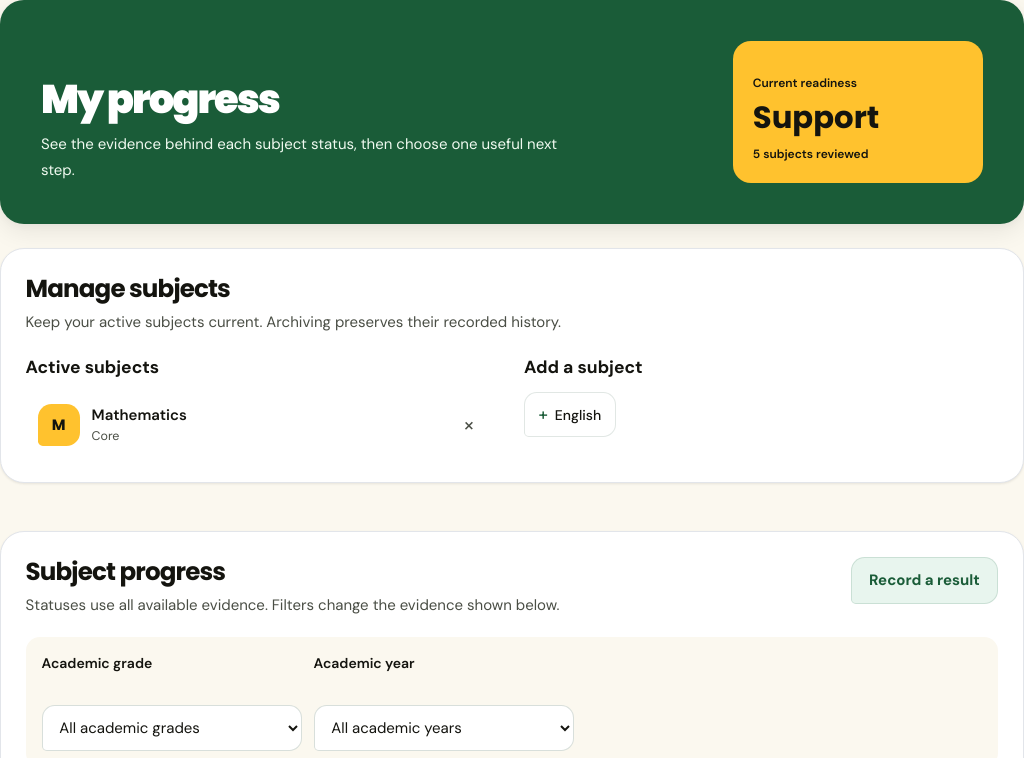
Test case: flagged My Progress dashboard › refreshes the progress summary after saving new grade evidence
Expected: the text "Support" is shown, [753,96,879,139]
Click the button "Record a result". click: {"x": 924, "y": 580}
box: [850,557,998,604]
(page scrolled)
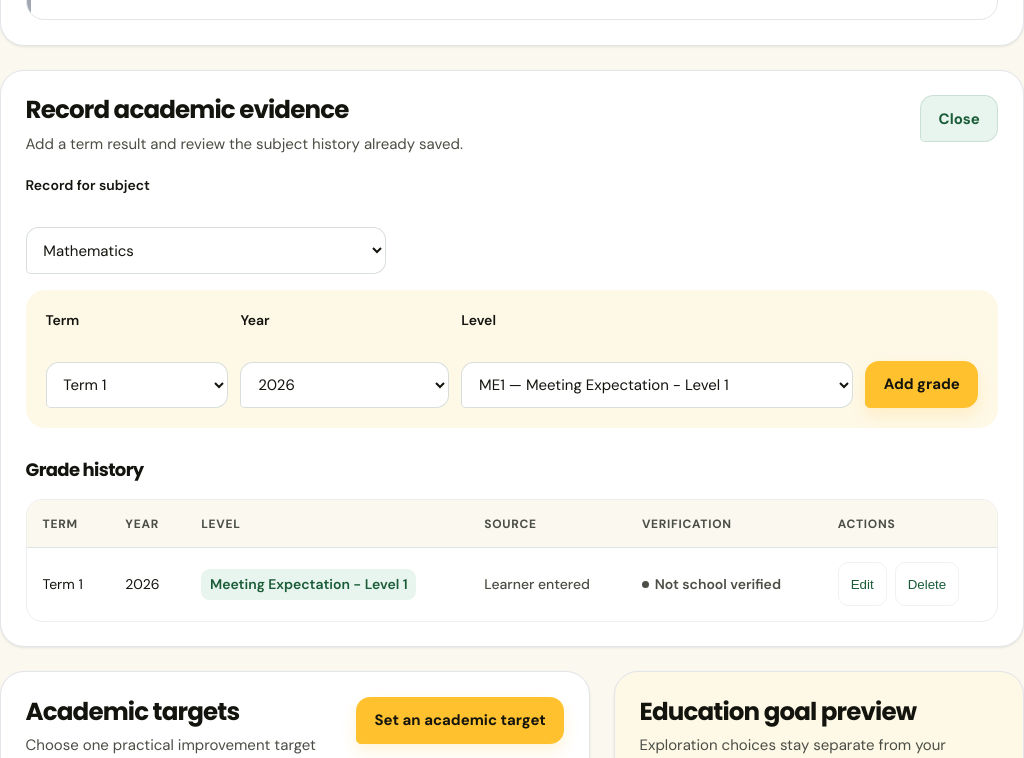
Click the button "Add grade". click: {"x": 922, "y": 385}
box: [865,361,978,408]
(page scrolled)
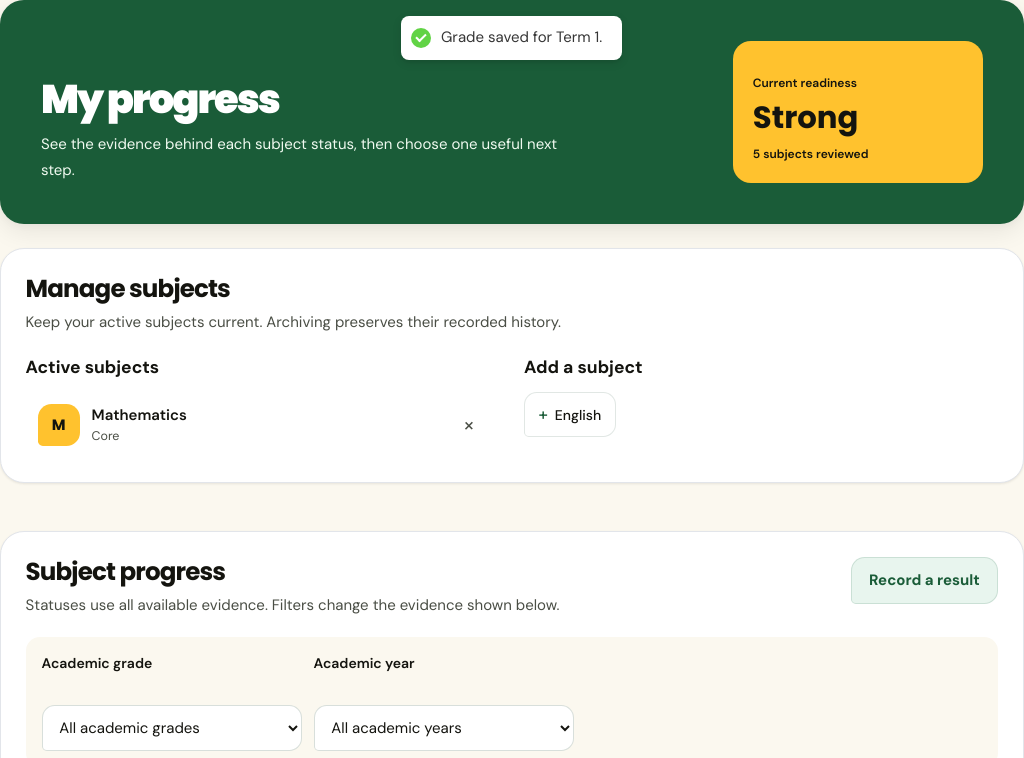
Expected: the text "Strong" is shown, [753,96,858,139]
